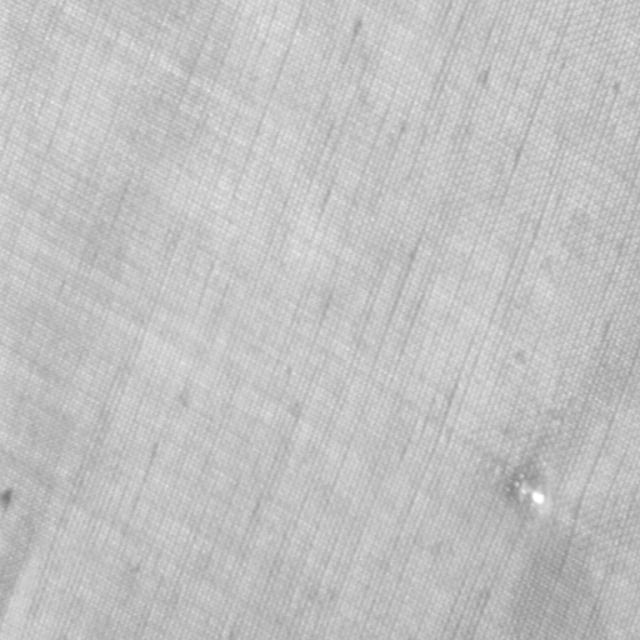hole: (512, 466, 548, 514)
